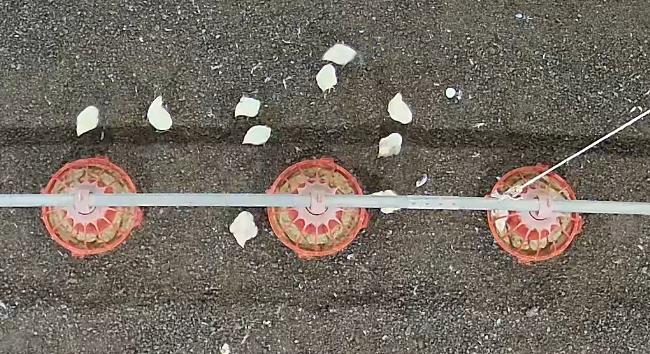chick: (229, 209, 258, 251), (146, 96, 174, 132), (367, 189, 403, 214), (386, 93, 412, 123), (323, 44, 356, 66), (242, 124, 272, 147), (77, 106, 99, 136), (317, 63, 337, 94), (234, 96, 262, 118), (489, 206, 511, 234), (378, 133, 402, 158)
rice: (265, 157, 371, 259), (39, 157, 144, 257), (483, 163, 585, 263)
